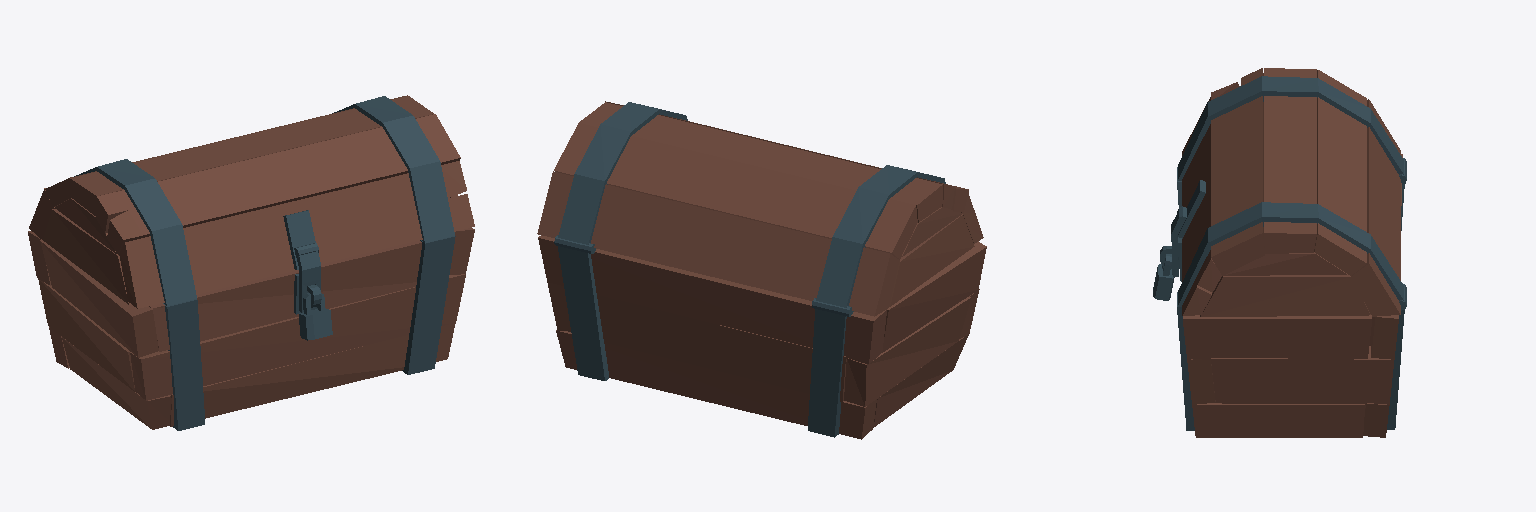
The model's file is Treasure_Trunk_01.obj.
3 views of the same model, side by side, from view 1: azimuth 30°, elevation 25°; view 2: azimuth 150°, elevation 25°; view 3: azimuth 270°, elevation 25° (orthographic).
Parts seen in each view (by area): view 1: Treasure_trunk_Cube.026; view 2: Treasure_trunk_Cube.026; view 3: Treasure_trunk_Cube.026.
Part boxes in pixels (bbox=[...]): Treasure_trunk_Cube.026: bbox=[28, 95, 474, 430]; Treasure_trunk_Cube.026: bbox=[537, 101, 986, 439]; Treasure_trunk_Cube.026: bbox=[1153, 68, 1406, 437].
Bounding box in the file's own units: 13.13 × 8.15 × 8.44.